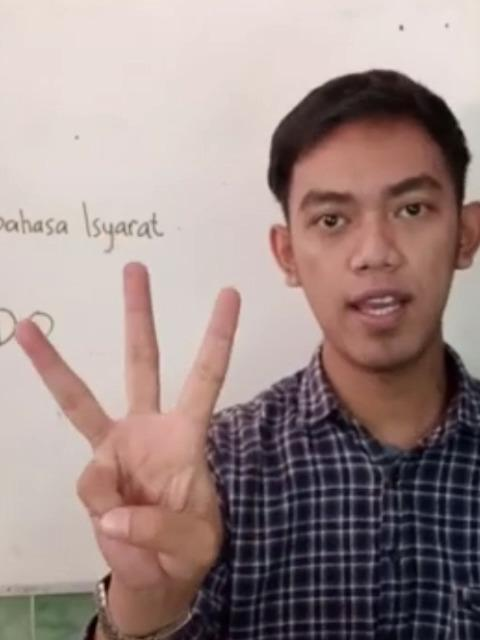W: (12, 258, 244, 600)
